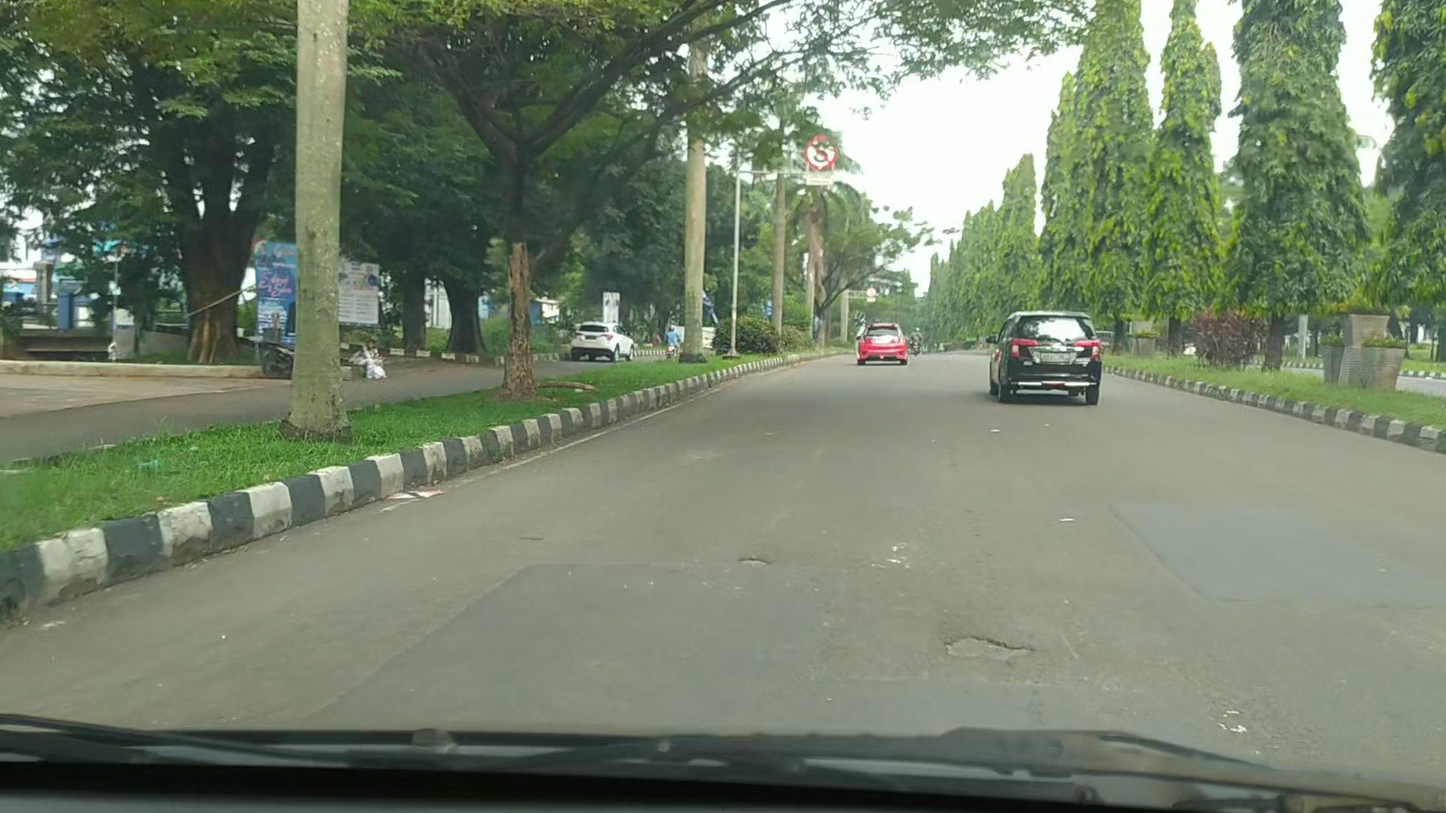pothole: (932, 635, 1035, 662)
